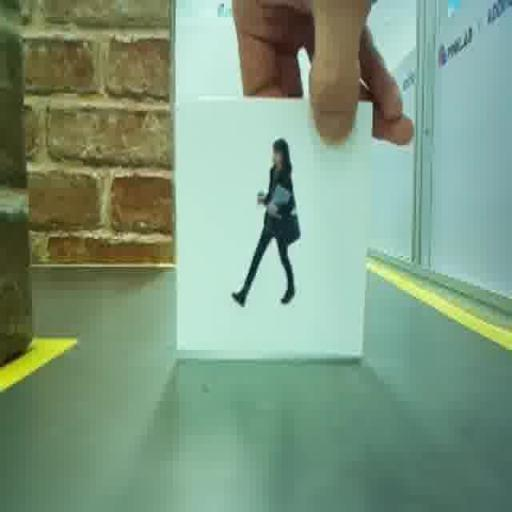human: (231, 138, 300, 306)
